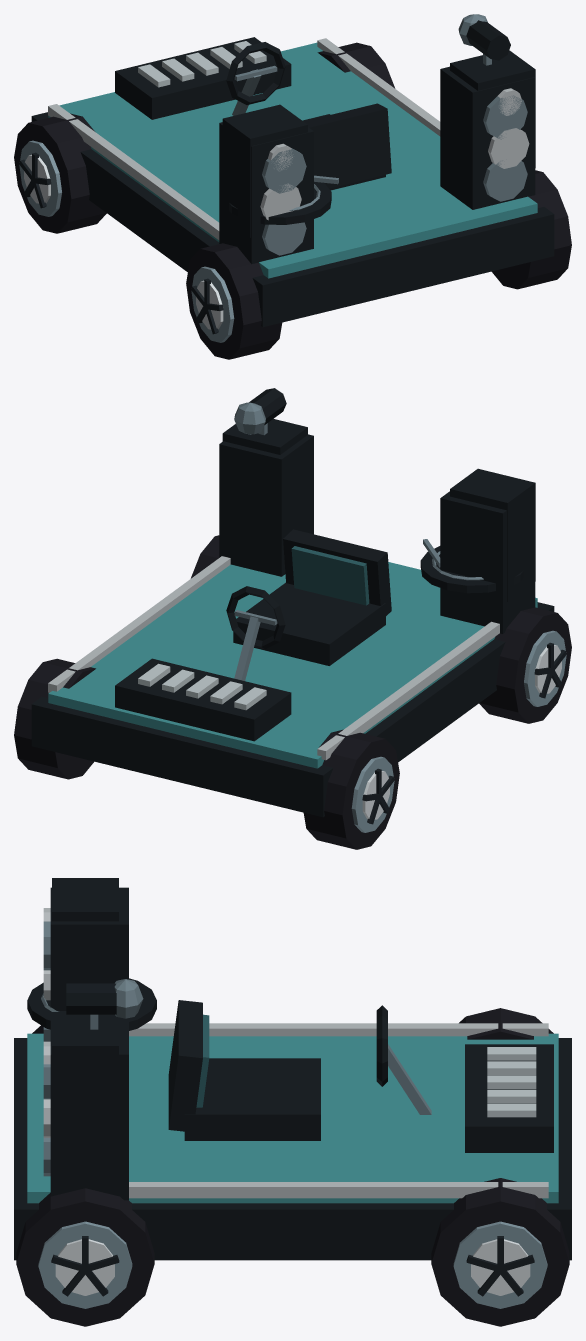
The model's file is kart.glb.
The picture shows the model from 3 angles, top to bottom: view 1: azimuth 30°, elevation 25°; view 2: azimuth 150°, elevation 25°; view 3: azimuth 270°, elevation 25°; orthographic projection. The views are drawn at different scales.
Parts seen in each view (by area): view 1: identity-stage-stage-platform-and-pa-towers, identity-stage-motif-speakers, identity-stage-driver-cockpit, wheel-rear-left, wheel-front-left, wheel-rear-right, identity-stage-motif-microphone, identity-stage-motif-vinyl, wheel-front-right; view 2: identity-stage-stage-platform-and-pa-towers, identity-stage-driver-cockpit, wheel-front-left, wheel-rear-left, identity-stage-motif-speakers, wheel-front-right, identity-stage-motif-vinyl, identity-stage-motif-microphone; view 3: identity-stage-stage-platform-and-pa-towers, identity-stage-driver-cockpit, wheel-front-right, wheel-rear-right, identity-stage-motif-speakers, identity-stage-motif-microphone, identity-stage-motif-vinyl, wheel-front-left.
Boxes of the visible parts, left/top/right/bottom form: identity-stage-stage-platform-and-pa-towers: left=31, top=37, right=554, bottom=327; identity-stage-motif-speakers: left=222, top=50, right=535, bottom=237; identity-stage-driver-cockpit: left=226, top=42, right=391, bottom=190; wheel-rear-left: left=186, top=243, right=282, bottom=359; wheel-front-left: left=14, top=113, right=106, bottom=233; wheel-rear-right: left=491, top=170, right=571, bottom=289; identity-stage-motif-microphone: left=458, top=14, right=510, bottom=65; identity-stage-motif-vinyl: left=229, top=175, right=338, bottom=224; wheel-front-right: left=317, top=42, right=395, bottom=88; identity-stage-stage-platform-and-pa-towers: left=31, top=434, right=554, bottom=817; identity-stage-driver-cockpit: left=226, top=529, right=391, bottom=680; wheel-front-left: left=303, top=729, right=399, bottom=849; wheel-rear-left: left=479, top=607, right=571, bottom=723; identity-stage-motif-speakers: left=222, top=419, right=535, bottom=601; wheel-front-right: left=14, top=658, right=95, bottom=779; identity-stage-motif-vinyl: left=420, top=539, right=523, bottom=593; identity-stage-motif-microphone: left=234, top=388, right=286, bottom=435; identity-stage-stage-platform-and-pa-towers: left=14, top=887, right=571, bottom=1260; identity-stage-driver-cockpit: left=168, top=1000, right=431, bottom=1140; wheel-front-right: left=431, top=1178, right=569, bottom=1326; wheel-rear-right: left=16, top=1188, right=154, bottom=1326; identity-stage-motif-speakers: left=43, top=878, right=118, bottom=1165; identity-stage-motif-microphone: left=66, top=979, right=143, bottom=1029; identity-stage-motif-vinyl: left=27, top=978, right=156, bottom=1030; wheel-front-left: left=459, top=1008, right=553, bottom=1039.
Size of the model in its own units: 2.16 by 1.57 by 2.5.
